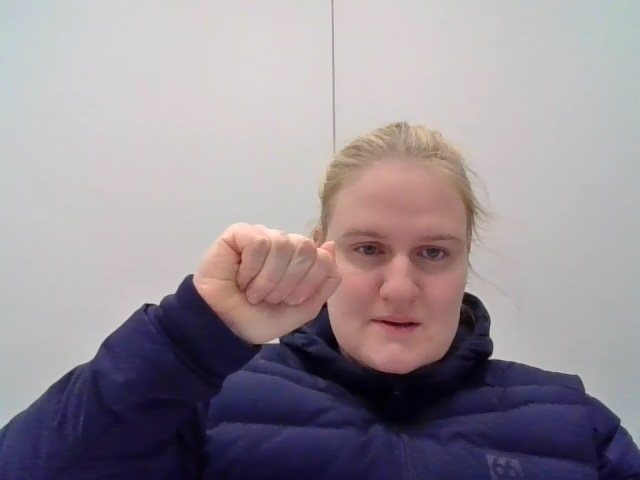down: (184, 209, 343, 364)
